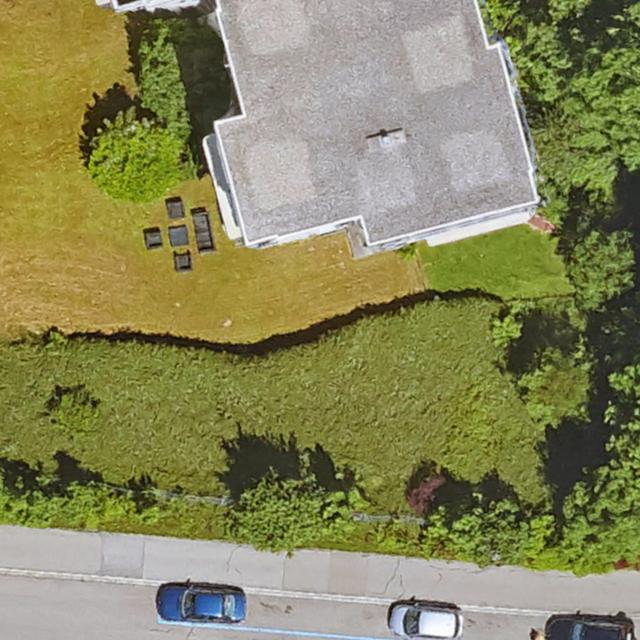tree: (519, 0, 640, 162), (558, 423, 640, 570), (139, 19, 235, 131), (84, 110, 185, 202), (233, 464, 340, 550), (423, 497, 556, 563), (564, 227, 637, 306)
